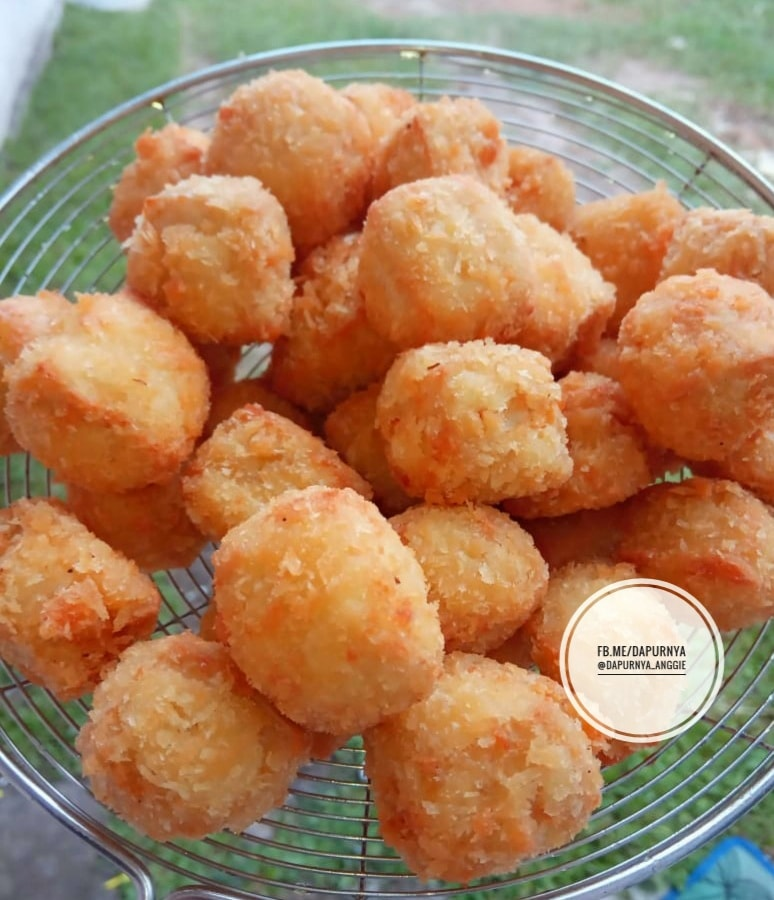Tahu: (218, 494, 436, 741), (32, 268, 243, 474), (358, 185, 554, 322)
